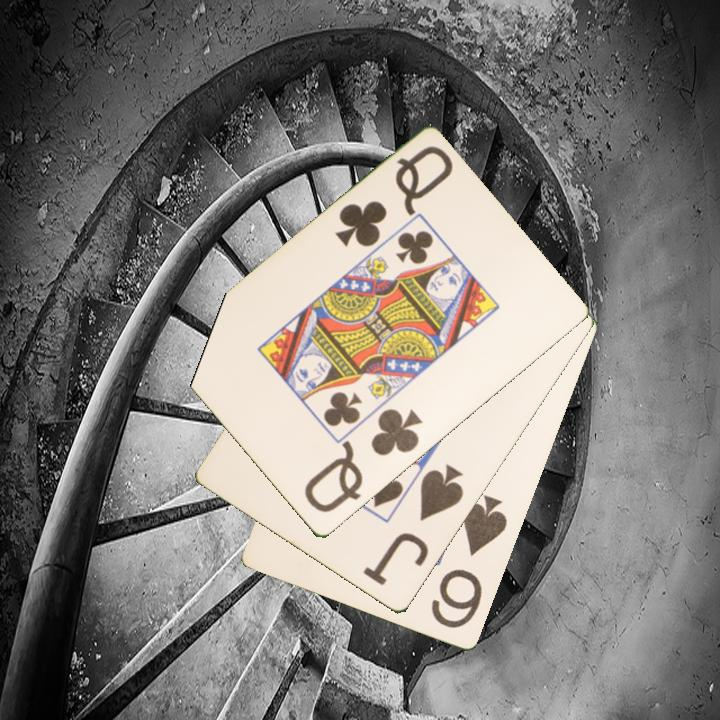6s: (427, 491, 511, 632)
Js: (359, 460, 467, 589)
Qc: (300, 405, 426, 517), (331, 142, 456, 251)
